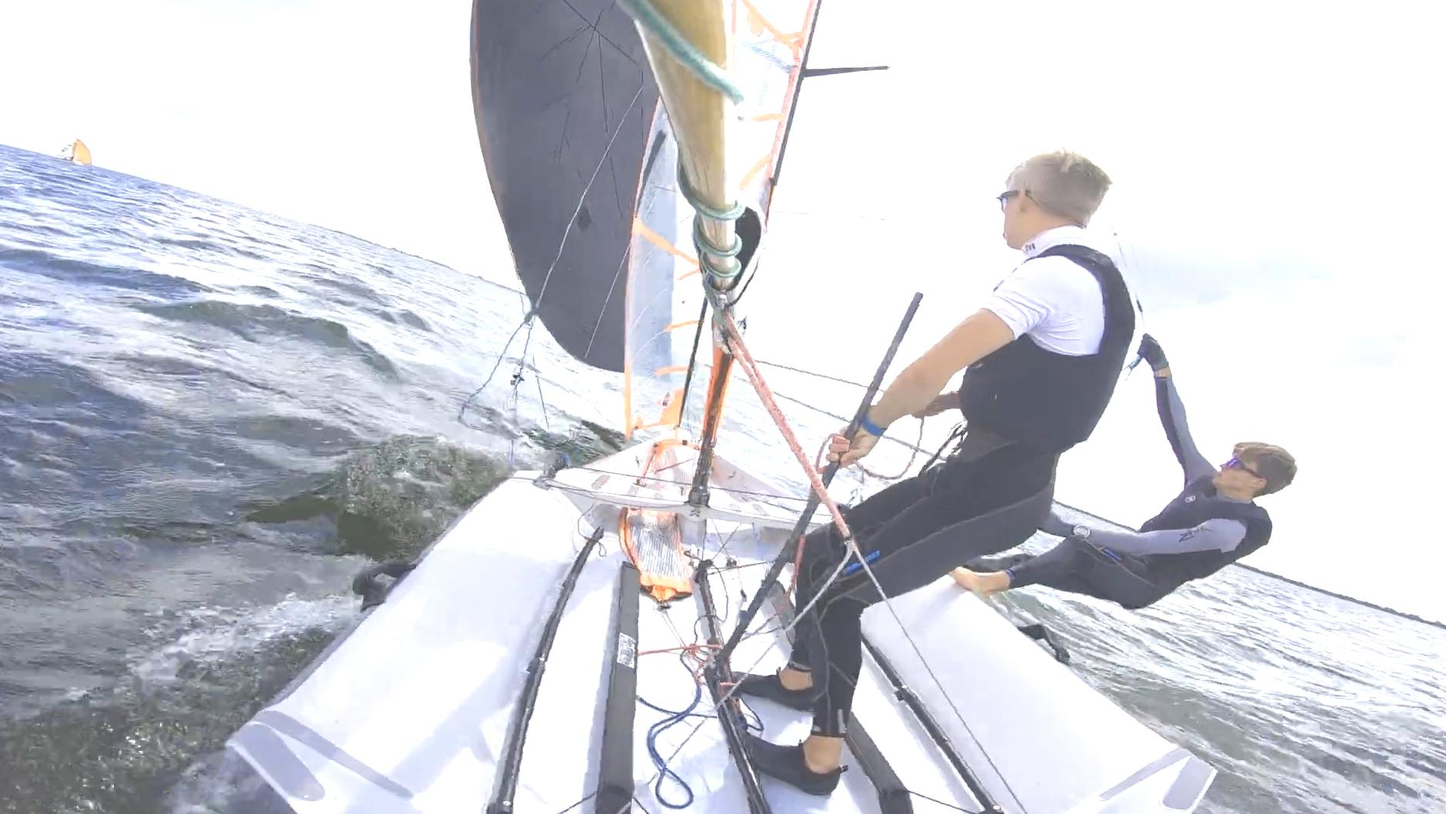boat: (174, 0, 1216, 814)
person: (721, 149, 1134, 796), (952, 336, 1297, 607)
sea: (0, 145, 624, 814), (998, 567, 1446, 814), (715, 377, 809, 484), (828, 436, 931, 507), (773, 392, 849, 463), (679, 362, 711, 442)
sky: (735, 0, 1446, 628), (0, 0, 513, 284)
